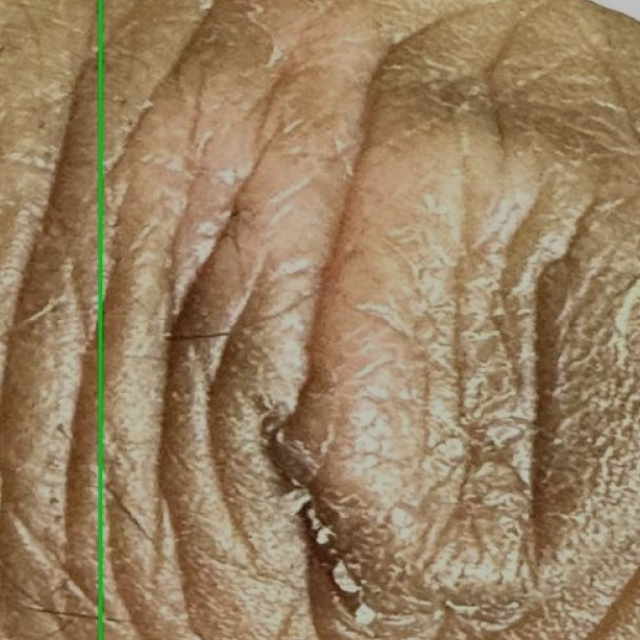Contact Dermatitis: (0, 0, 100, 639)
